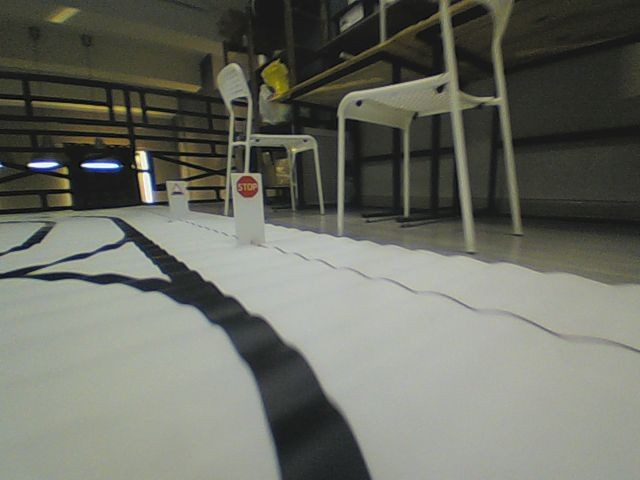Nerov: (170, 183, 183, 197)
Stop: (234, 175, 258, 198)
